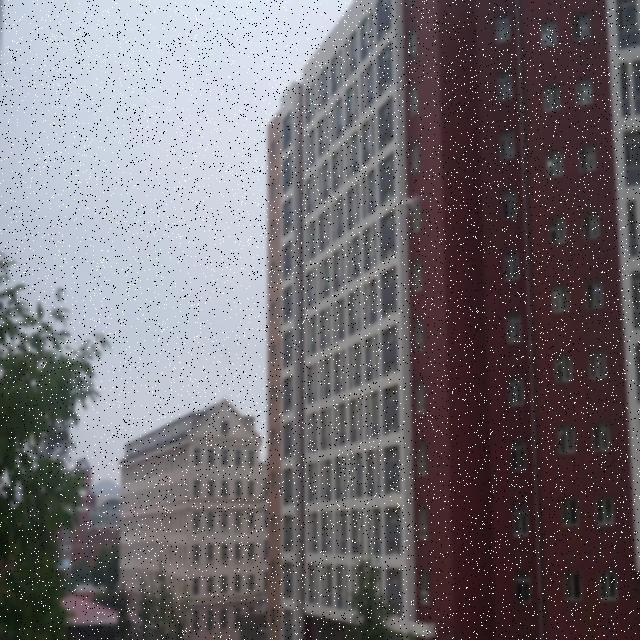UAV: (393, 194, 422, 215)
